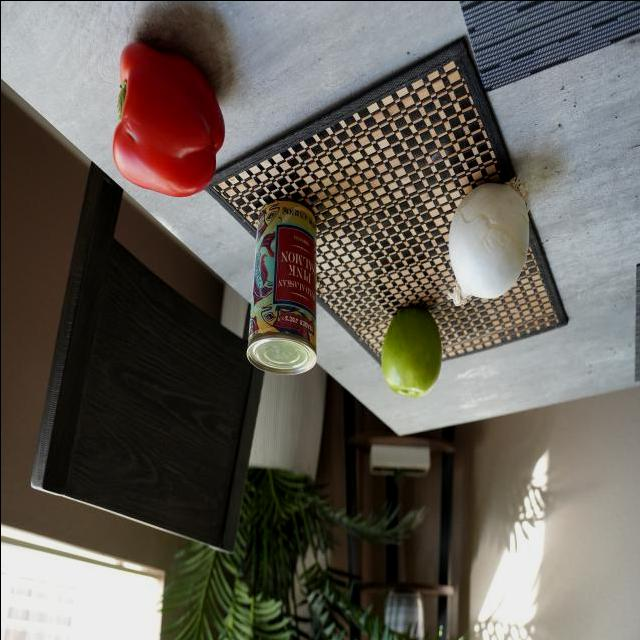bell_pepper: (117, 30, 229, 210)
onion: (449, 185, 531, 308)
